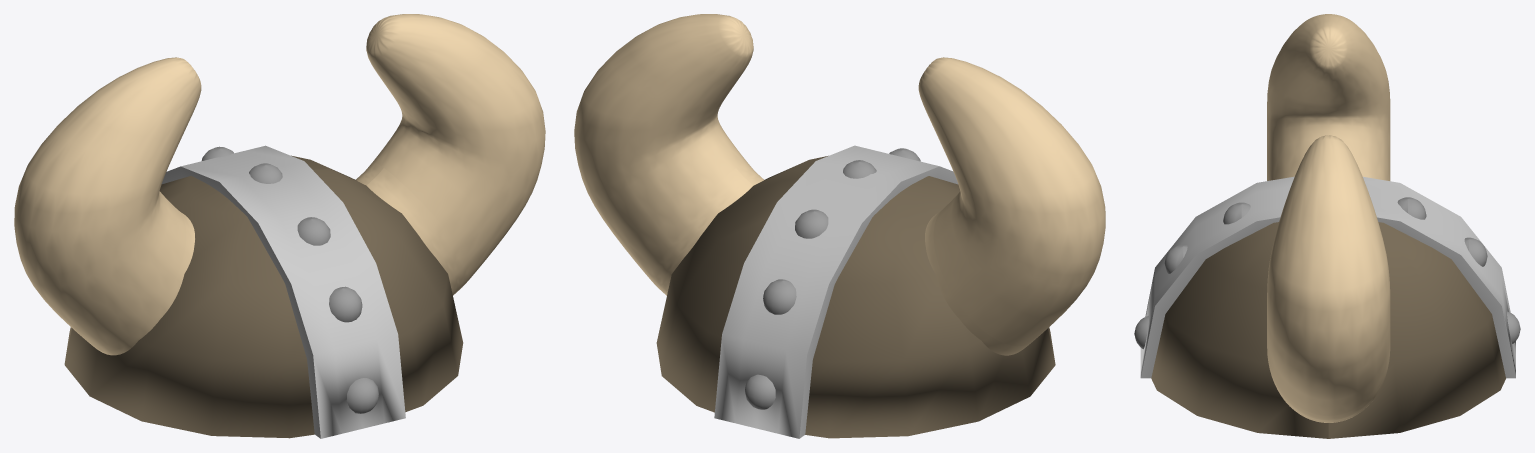
File: viking-hat.glb
The picture shows the model from 3 angles, left to right: view 1: azimuth 30°, elevation 25°; view 2: azimuth 150°, elevation 25°; view 3: azimuth 270°, elevation 25°; orthographic projection. The views are drawn at different scales.
Parts seen in each view (by area): view 1: 3DSMeshMatrix (×8); view 2: 3DSMeshMatrix (×7); view 3: 3DSMeshMatrix (×8).
Part boxes in pixels (x1=…): 3DSMeshMatrix (×8): x1=14, y1=14, x2=545, y2=438; 3DSMeshMatrix (×7): x1=574, y1=14, x2=1105, y2=438; 3DSMeshMatrix (×8): x1=1140, y1=14, x2=1515, y2=438.
Bounding box in the file's own units: 186 × 109 × 131.
